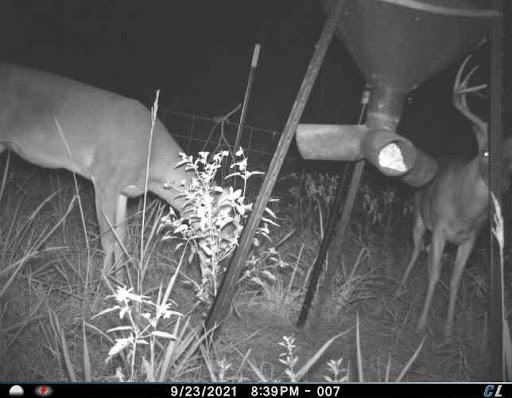Deer: (0, 53, 253, 303), (414, 81, 512, 342)
